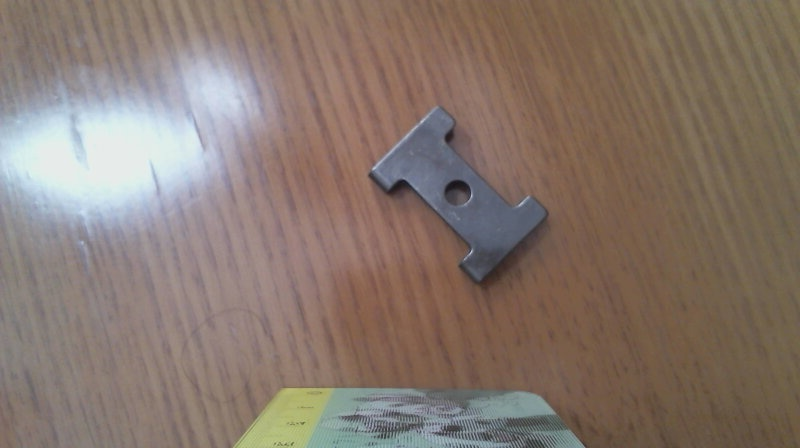O002: (362, 99, 554, 286)
